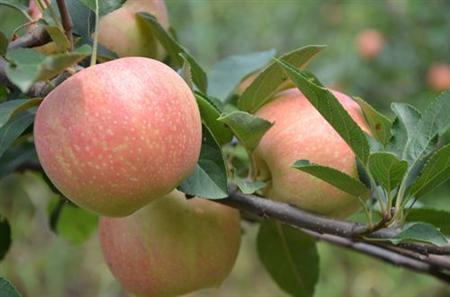apple: (34, 56, 202, 216), (244, 84, 390, 216), (98, 186, 238, 293)
